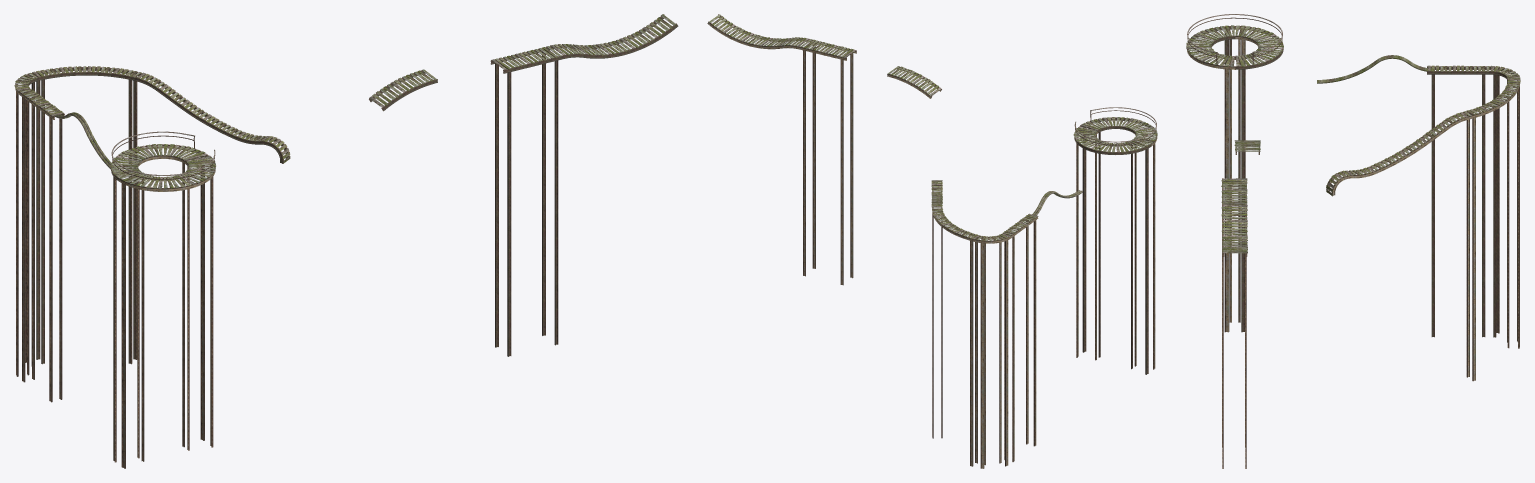
The picture shows the model from 3 angles, left to right: view 1: azimuth 30°, elevation 25°; view 2: azimuth 150°, elevation 25°; view 3: azimuth 270°, elevation 25°; orthographic projection. The views are drawn at different scales.
Visible parts, largest first — view 1: Ramp..005, Ramp.002, Ramp..014, Ramp..004, Ramp..012, Ramp..013, Ramp..001, Ramp.004, Ramp..017, fence; view 2: Ramp..005, Ramp.002, Ramp..004, Ramp..013, Ramp..014, Ramp..012, Ramp..001, Ramp.004, fence; view 3: Ramp..014, Ramp..005, Ramp..004, Ramp..012, Ramp..013, Ramp.002, Ramp..001, Ramp..017, fence, Ramp.001.
Part boxes in pixels (left/top/right/bottom): Ramp..005: left=118, top=155, right=215, bottom=468; Ramp.002: left=490, top=46, right=562, bottom=356; Ramp..014: left=32, top=66, right=141, bottom=364; Ramp..004: left=110, top=144, right=208, bottom=462; Ramp..012: left=19, top=89, right=64, bottom=402; Ramp..013: left=14, top=73, right=37, bottom=376; Ramp..001: left=572, top=14, right=678, bottom=58; Ramp.004: left=369, top=69, right=437, bottom=111; Ramp..017: left=178, top=99, right=242, bottom=139; fence: left=111, top=131, right=215, bottom=179; Ramp..005: left=1080, top=117, right=1157, bottom=369; Ramp.002: left=799, top=39, right=856, bottom=285; Ramp..004: left=1073, top=126, right=1151, bottom=374; Ramp..013: left=976, top=233, right=1010, bottom=468; Ramp..014: left=932, top=207, right=980, bottom=466; Ramp..012: left=1002, top=213, right=1038, bottom=461; Ramp..001: left=707, top=14, right=790, bottom=49; Ramp.004: left=887, top=66, right=941, bottom=98; fence: left=1074, top=107, right=1156, bottom=145; Ramp..014: left=1463, top=79, right=1520, bottom=381; Ramp..005: left=1186, top=25, right=1235, bottom=332; Ramp..004: left=1235, top=25, right=1283, bottom=332; Ramp..012: left=1427, top=65, right=1489, bottom=337; Ramp..013: left=1490, top=65, right=1520, bottom=342; Ramp.002: left=1221, top=178, right=1247, bottom=468; Ramp..001: left=1221, top=219, right=1247, bottom=256; Ramp..017: left=1370, top=137, right=1428, bottom=173; fence: left=1187, top=14, right=1282, bottom=64; Ramp.001: left=1221, top=205, right=1247, bottom=219.
Size of the model in its own units: 4694 by 2721 by 2653.
